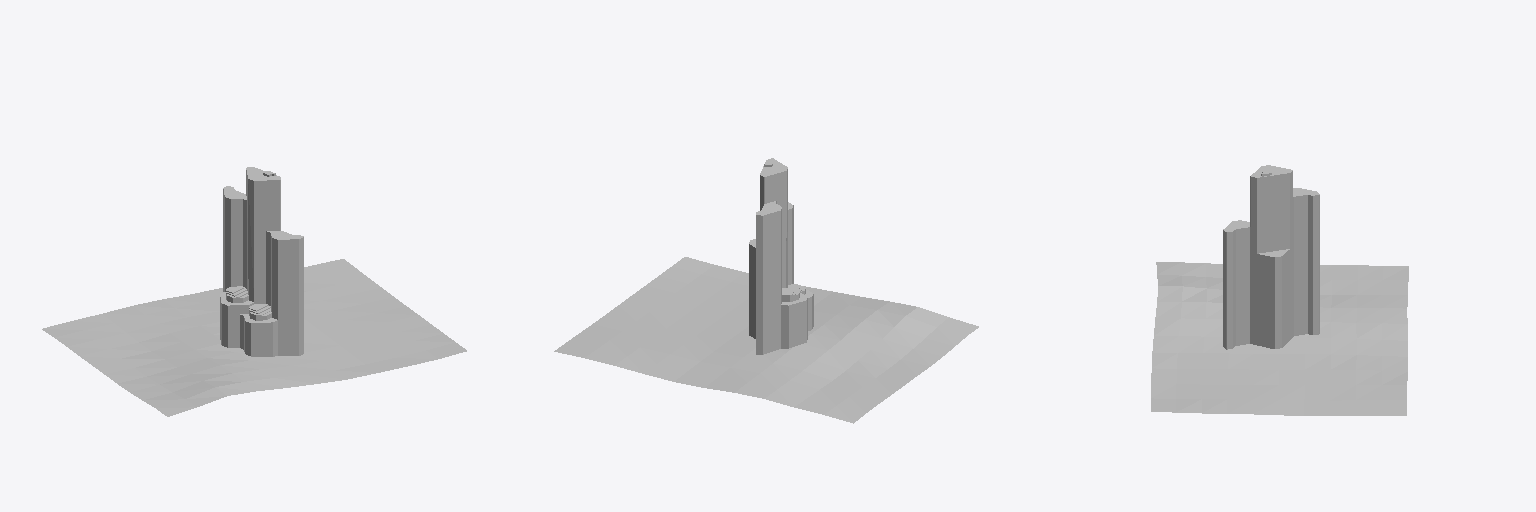
File: Total.obj
3 views of the same model, side by side, from view 1: azimuth 30°, elevation 25°; view 2: azimuth 150°, elevation 25°; view 3: azimuth 270°, elevation 25° (orthographic).
Visible parts, largest first — view 1: Total-GRP-Google_Earth_Terrain-3430-Google_Earth_Snapshot1, Total-SKP-TotalFace; view 2: Total-GRP-Google_Earth_Terrain-3430-Google_Earth_Snapshot1, Total-SKP-TotalFace; view 3: Total-GRP-Google_Earth_Terrain-3430-Google_Earth_Snapshot1, Total-SKP-TotalFace.
Boxes of the visible parts, x1,y1,x2,y2 form: Total-GRP-Google_Earth_Terrain-3430-Google_Earth_Snapshot1: [42, 259, 466, 416]; Total-SKP-TotalFace: [220, 170, 303, 356]; Total-GRP-Google_Earth_Terrain-3430-Google_Earth_Snapshot1: [554, 257, 978, 423]; Total-SKP-TotalFace: [749, 169, 813, 354]; Total-GRP-Google_Earth_Terrain-3430-Google_Earth_Snapshot1: [1151, 262, 1408, 415]; Total-SKP-TotalFace: [1223, 171, 1319, 349].
Bounding box in the file's own units: 358 × 197 × 266.